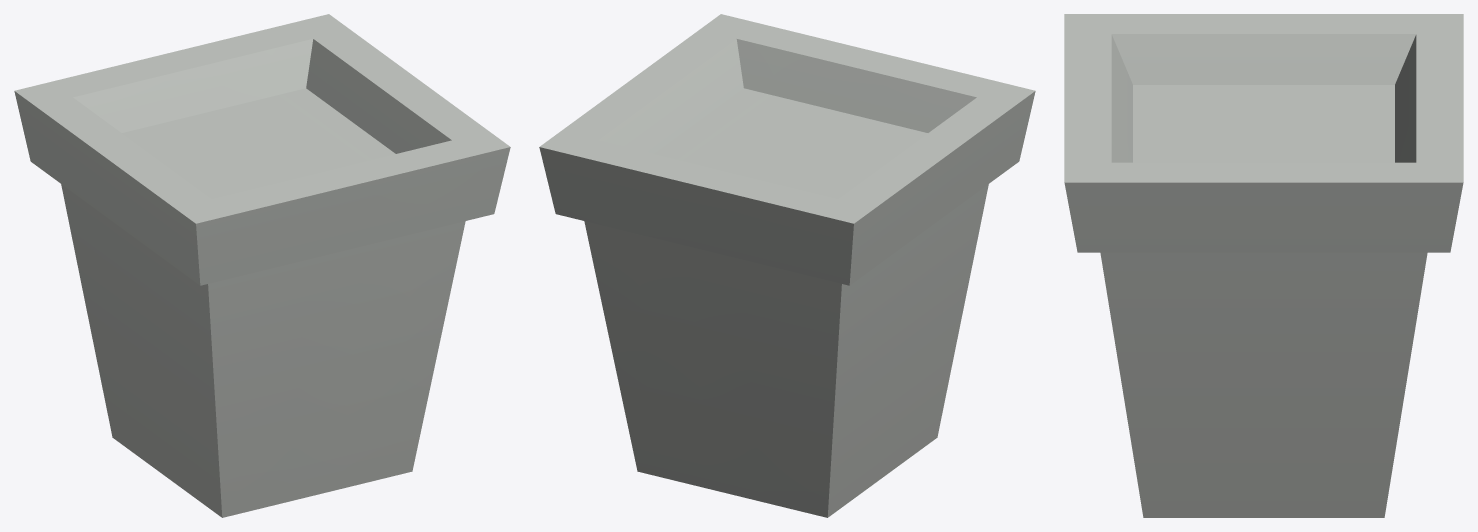
Rendered from Plant_Pot_square.fbx.
3 renders of one model, left to right at view 1: azimuth 30°, elevation 25°; view 2: azimuth 150°, elevation 25°; view 3: azimuth 270°, elevation 25°, orthographic. The views are drawn at different scales.
Parts seen in each view (by area): view 1: Plant_Pot_square; view 2: Plant_Pot_square; view 3: Plant_Pot_square.
Boxes of the visible parts, x1=… form: Plant_Pot_square: x1=14, y1=14, x2=510, y2=517; Plant_Pot_square: x1=539, y1=14, x2=1035, y2=517; Plant_Pot_square: x1=1064, y1=14, x2=1463, y2=517.
Size of the model in its own units: 49.05 by 50 by 49.05.
